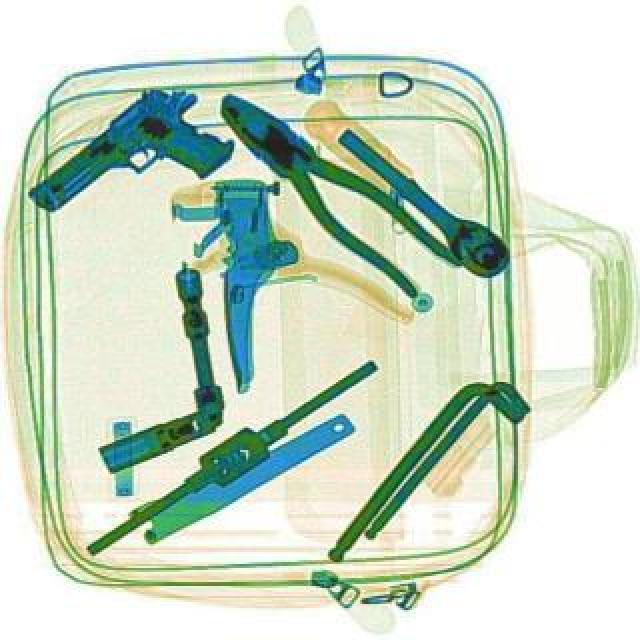gun: (20, 68, 244, 268)
wrench: (194, 72, 466, 308)
